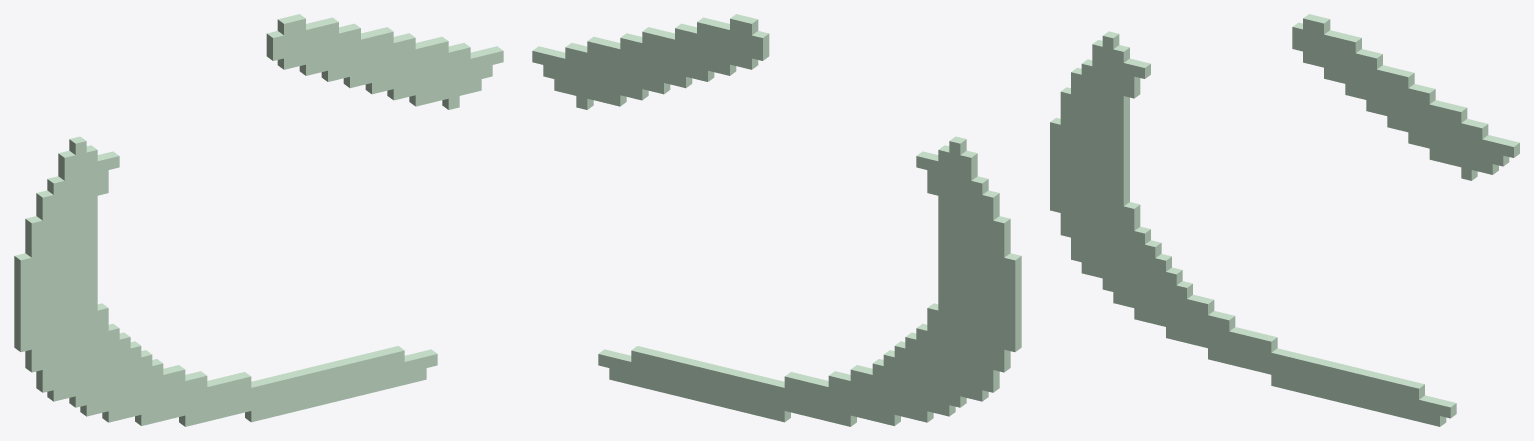
File: Fight_105_2_07_fx.obj
3 renders of one model, left to right at view 1: azimuth 30°, elevation 25°; view 2: azimuth 150°, elevation 25°; view 3: azimuth 330°, elevation 25°, orthographic. The views are drawn at different scales.
Size of the model in its own units: 4.4 by 3.4 by 0.1.
1 material, 1 textured.
